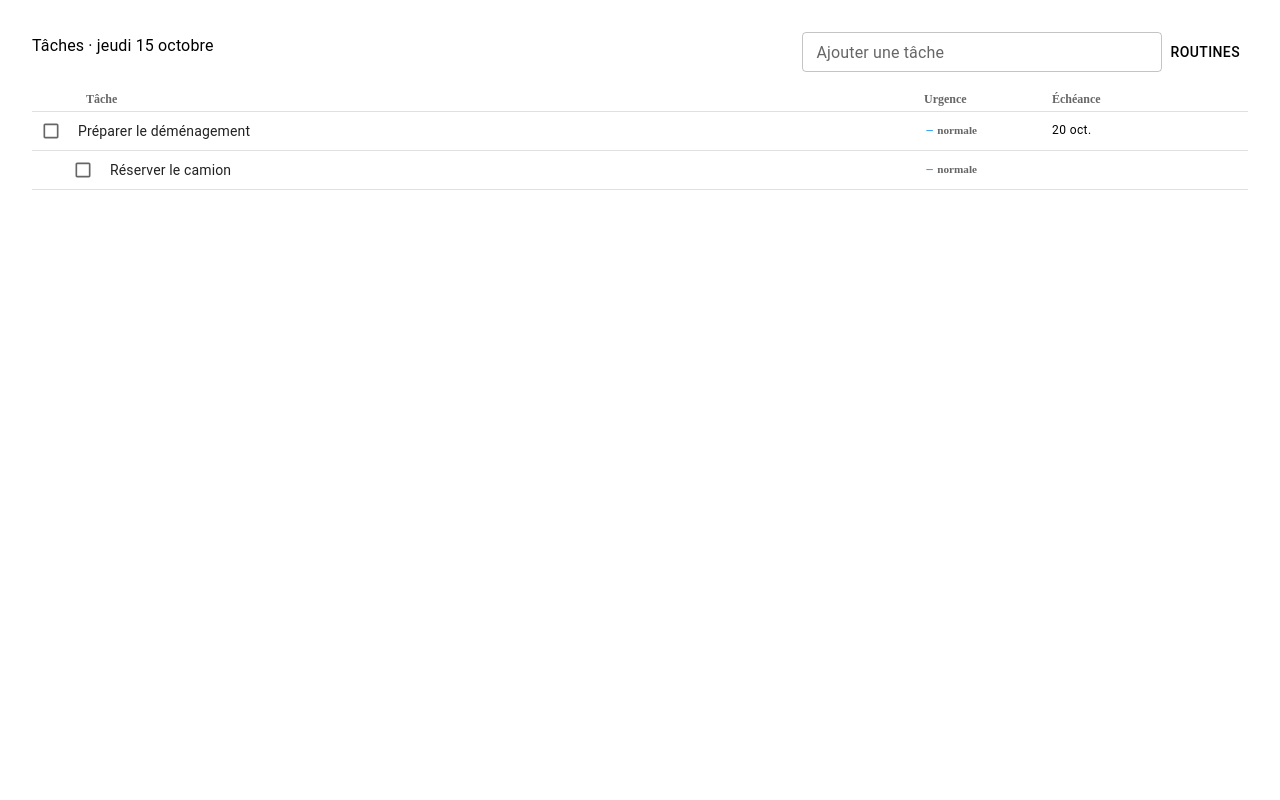
Test: TaskBoard › the other views (MAG-408, MAG-644) › opens the detail of a task in the panel, without a refetch
This screenshot has width=1280, height=800.
Click the button with aria-label "Ouvrir Préparer le déménagement" at coordinates (164, 131), box top-left (78, 123), bottom-right (250, 139)
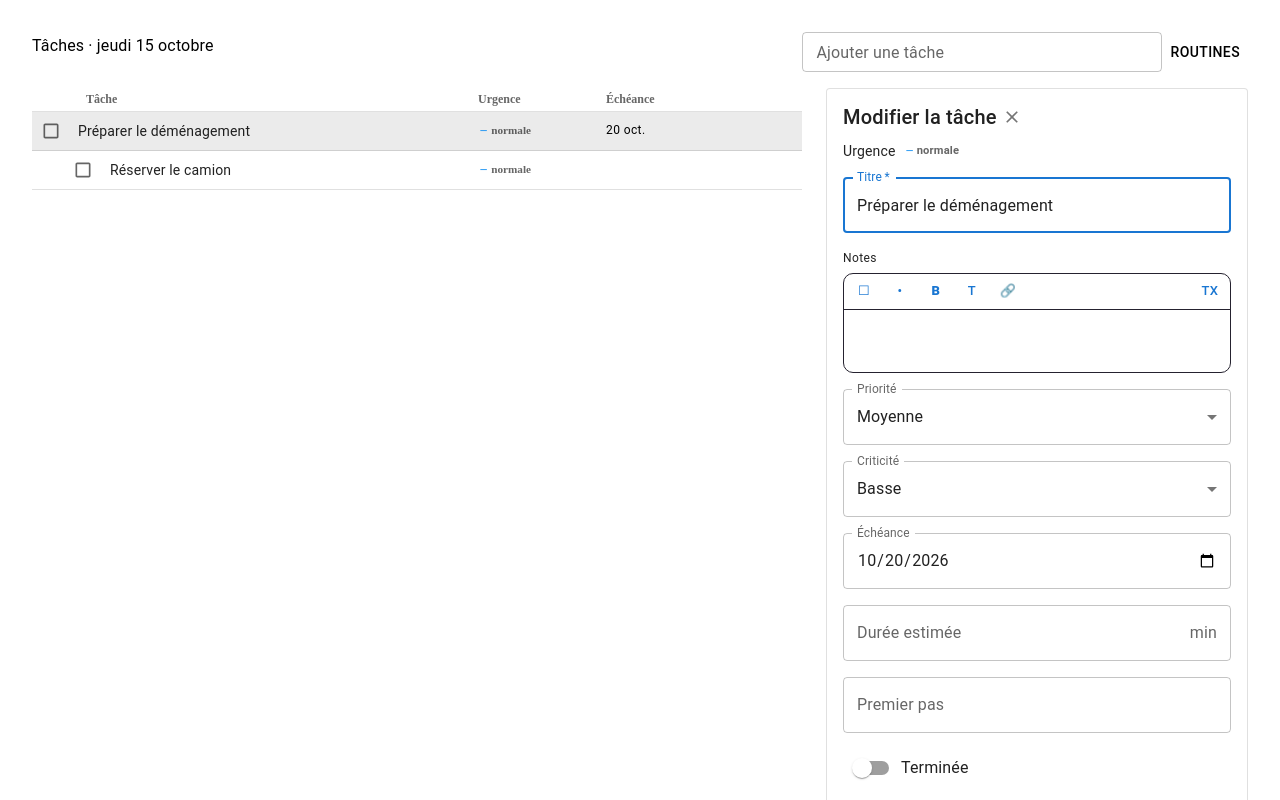
Expected: the list named "À venir" is shown, top-left (32, 112), bottom-right (802, 190)
Expected: the heading "Modifier la tâche" is shown, top-left (843, 101), bottom-right (996, 133)
Expected: the field labelled "Titre *" holds "Préparer le déménagement", top-left (843, 177), bottom-right (1231, 233)
